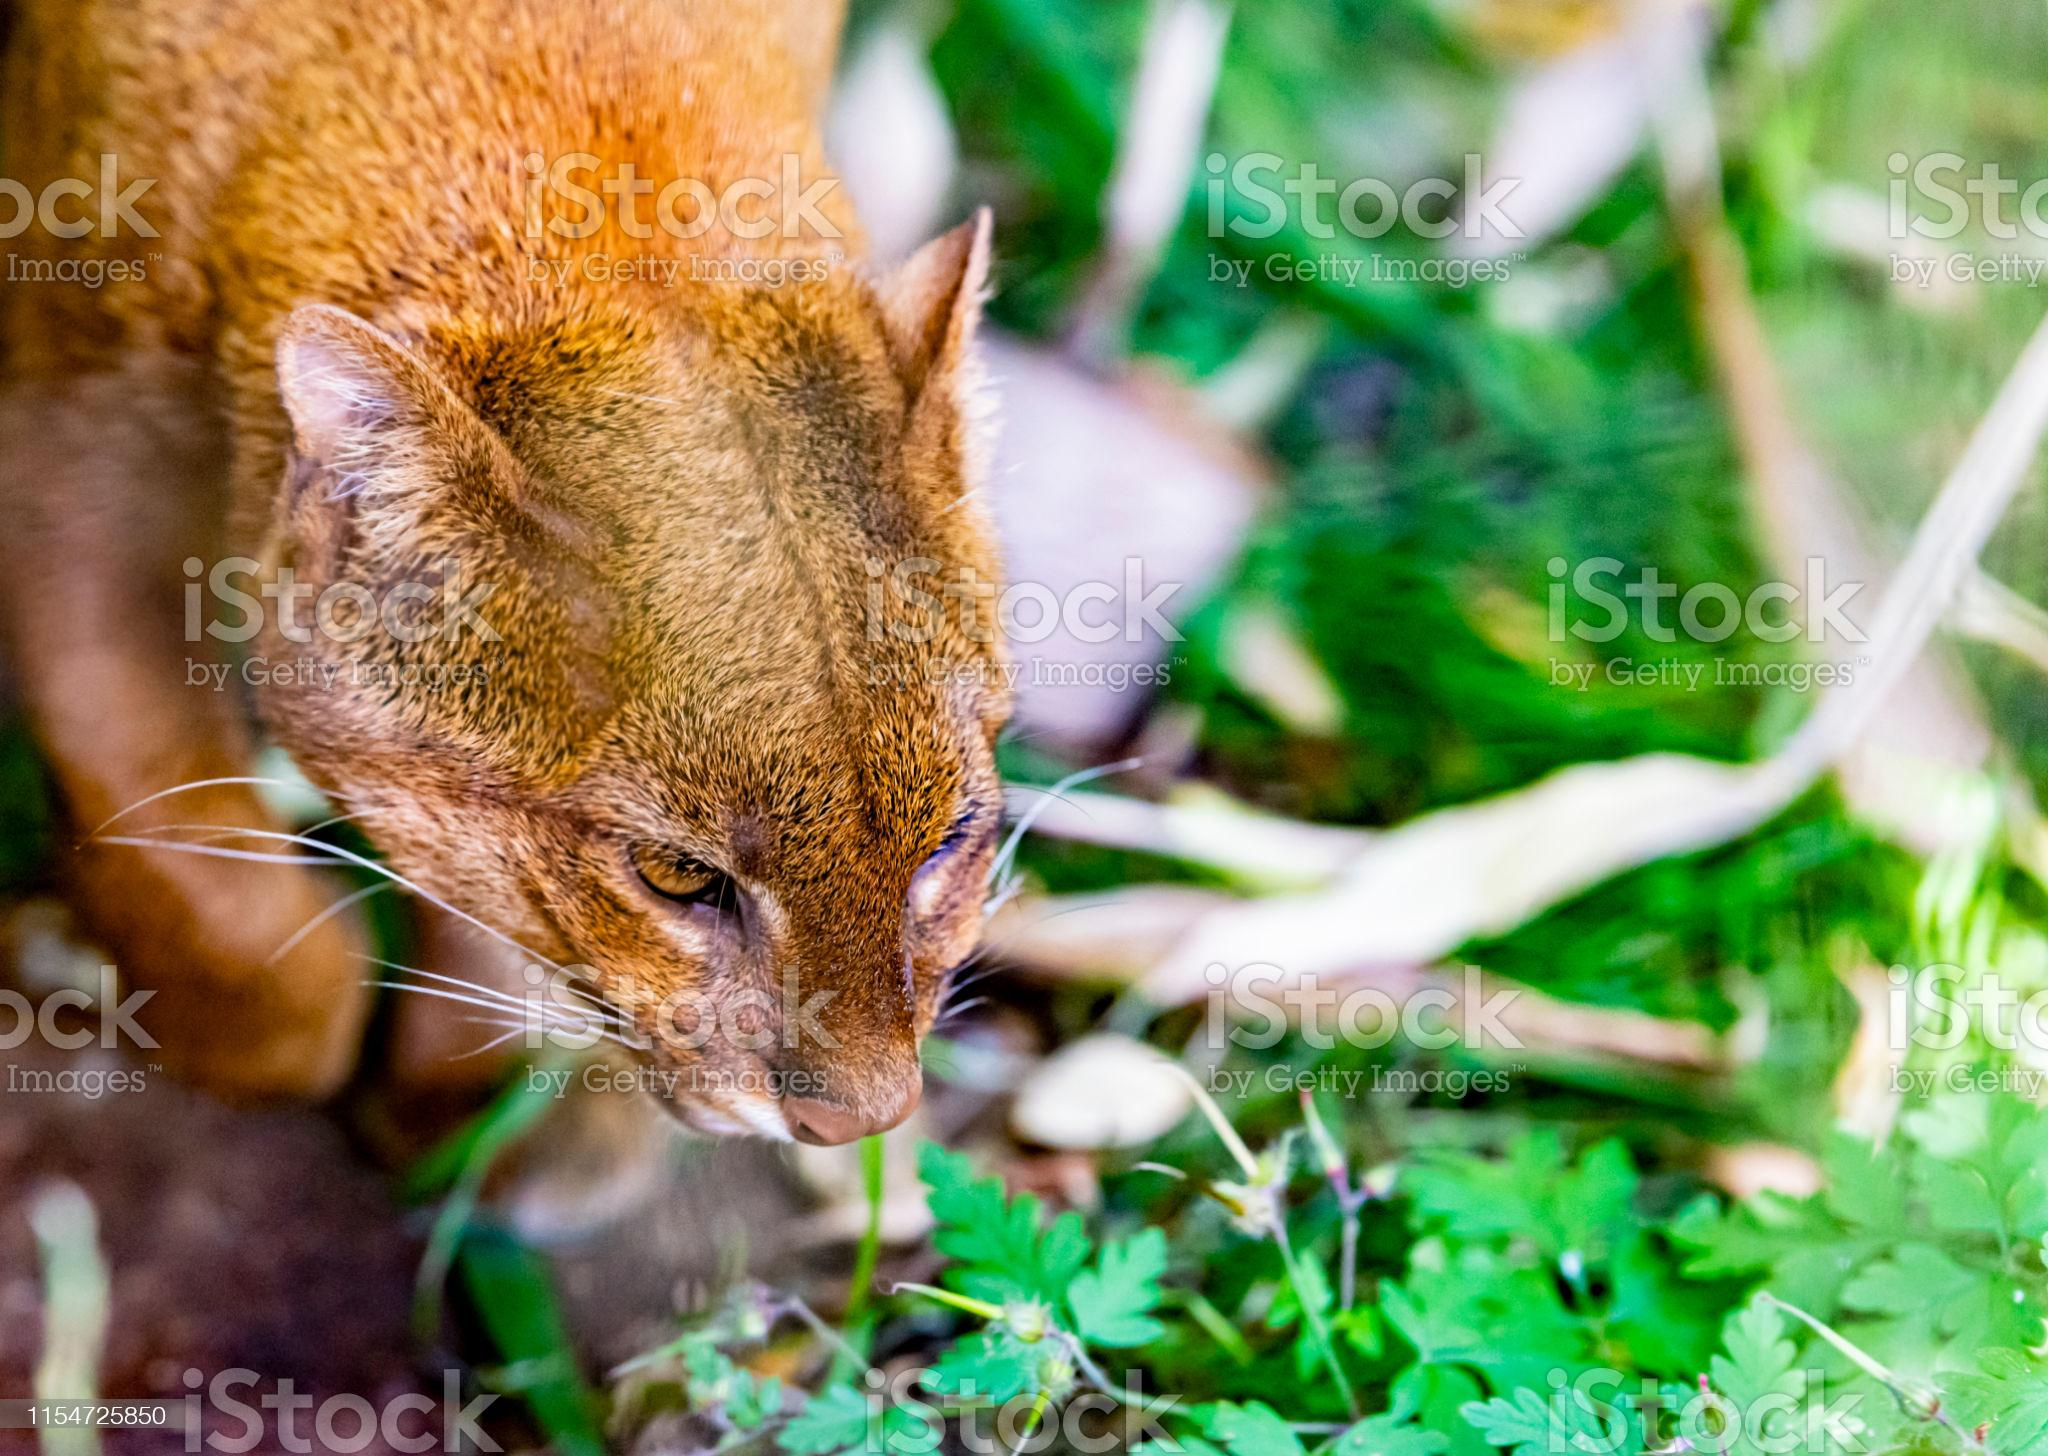Jaguarundi: (150, 24, 1013, 1198)
